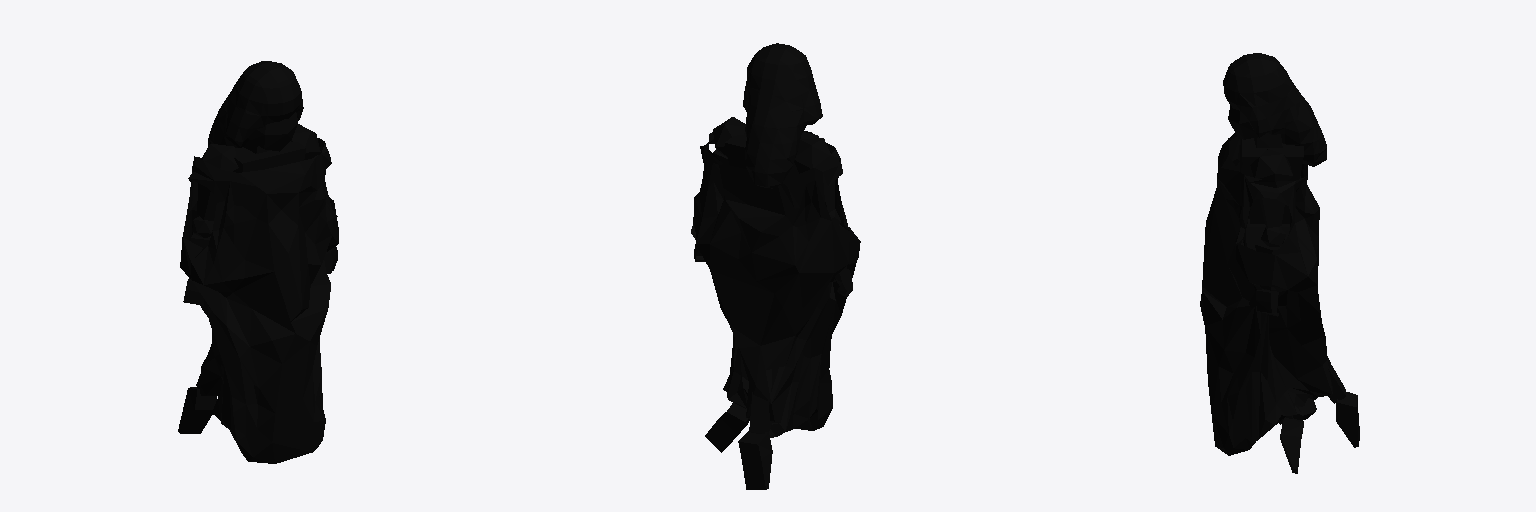
The model's file is Statue8.obj.
The picture shows the model from 3 angles: view 1: azimuth 30°, elevation 25°; view 2: azimuth 150°, elevation 25°; view 3: azimuth 270°, elevation 25°; orthographic projection.
Parts seen in each view (by area): view 1: Statue8_Cube.051; view 2: Statue8_Cube.051; view 3: Statue8_Cube.051.
Boxes of the visible parts, x1,y1,x2,y2 form: Statue8_Cube.051: [178, 61, 338, 463]; Statue8_Cube.051: [691, 43, 860, 489]; Statue8_Cube.051: [1200, 53, 1359, 473].
Size of the model in its own units: 0.8313 by 2.02 by 0.7311.